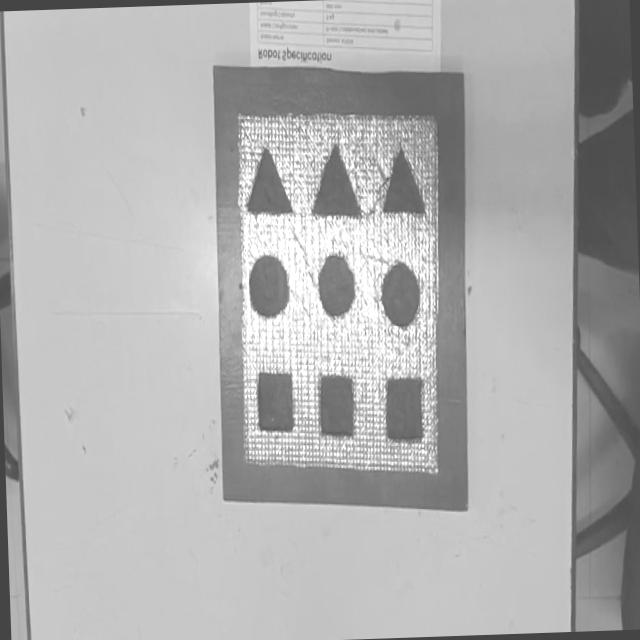mtcircle: (249, 256, 289, 317)
mtcube: (386, 377, 424, 441)
mttriangle: (313, 146, 362, 217)
wb: (238, 113, 438, 476)
